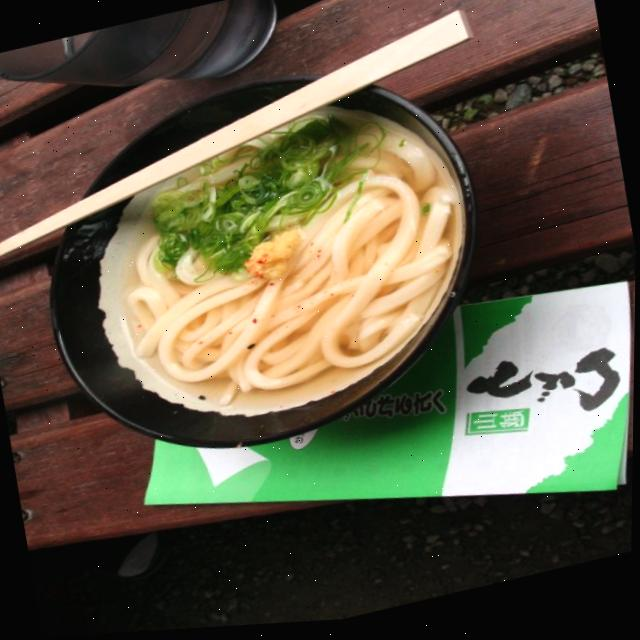面条主食: (29, 39, 509, 472)
